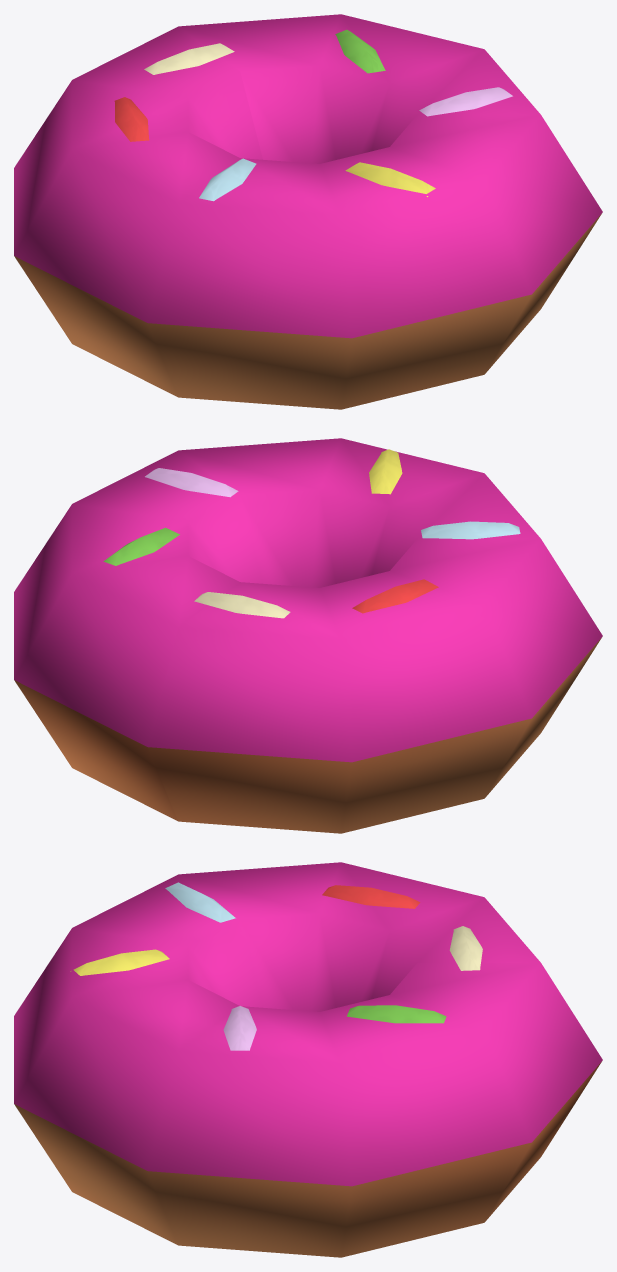
The model's file is Doughnut_A.FBX.
3 views of the same model, one above another, from view 1: azimuth 30°, elevation 25°; view 2: azimuth 150°, elevation 25°; view 3: azimuth 270°, elevation 25° (orthographic).
Visible parts, largest first — view 1: Doughnut; view 2: Doughnut; view 3: Doughnut.
Part boxes in pixels (x1,y1,x2,y2): Doughnut: (14, 14, 602, 409); Doughnut: (14, 438, 602, 833); Doughnut: (14, 862, 602, 1257).
Bounding box in the file's own units: 52.77 × 19.96 × 51.97.
